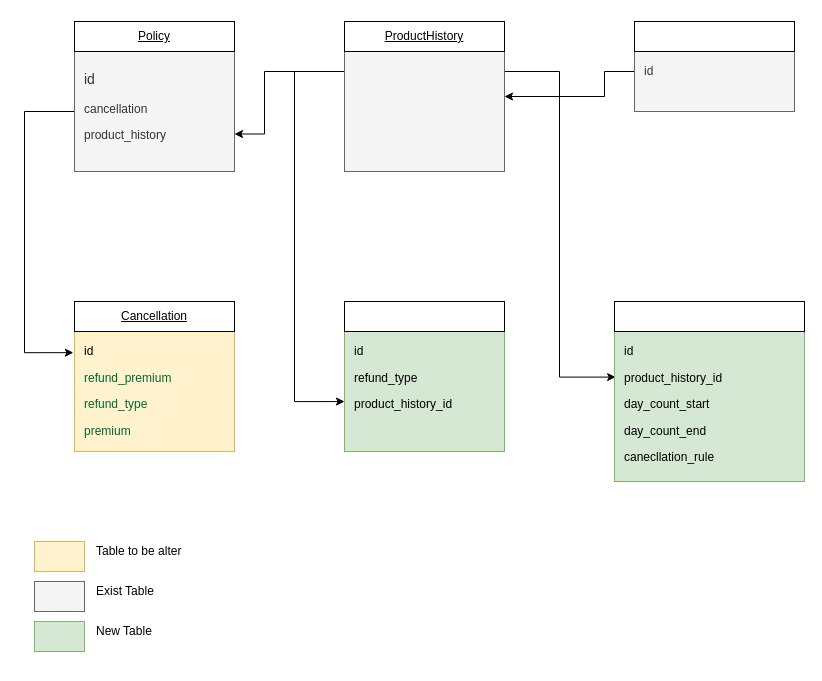
Some shapes in this 822 by 681 pixel diagram are drawn without their labels. The box of each missing label's shape, as (x1, y1, x2, y2) in pixels:
Product: (634, 20, 794, 52)
ProductHistory id product_id: (344, 20, 504, 172)
ProductProrateRefundCondition: (614, 300, 804, 332)
ProductRefund: (344, 300, 504, 332)
